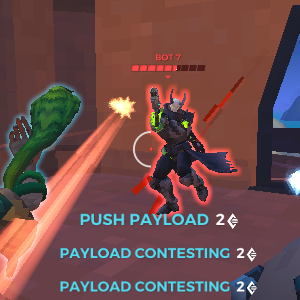model: (146, 85, 220, 213)
